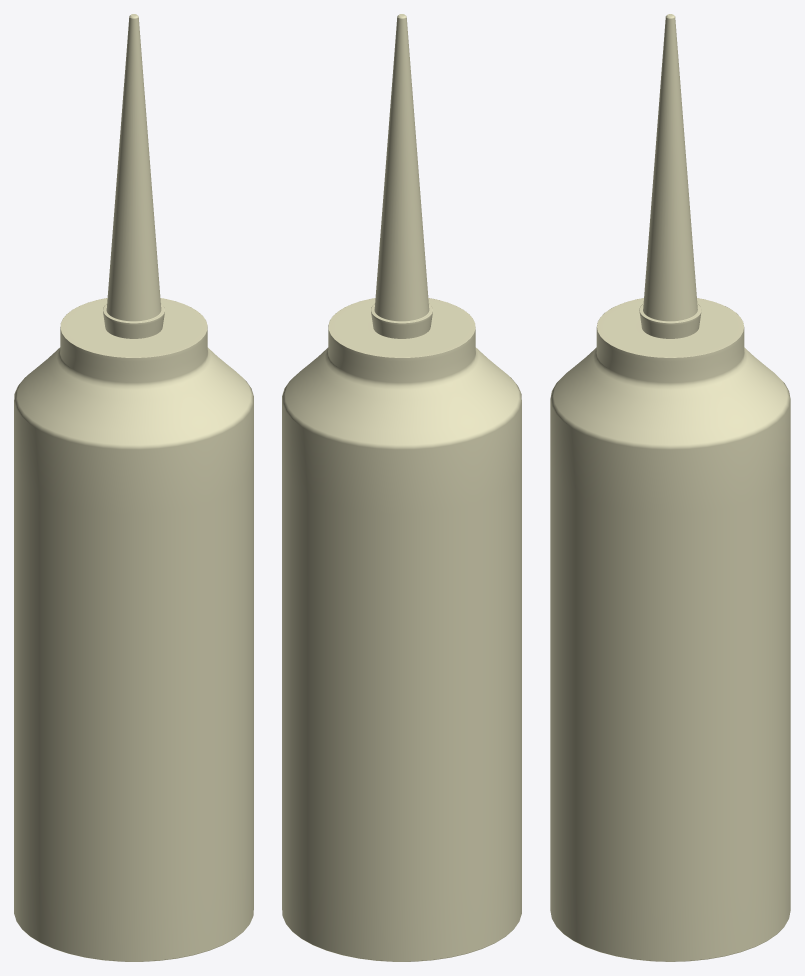
Rendered from Souse.fbx.
3 views of the same model, side by side, from view 1: azimuth 30°, elevation 25°; view 2: azimuth 150°, elevation 25°; view 3: azimuth 270°, elevation 25° (orthographic).
Parts seen in each view (by area): view 1: pCylinder31; view 2: pCylinder31; view 3: pCylinder31.
Part boxes in pixels (x1,y1,x2,y2): pCylinder31: (14, 14, 253, 961); pCylinder31: (282, 14, 521, 961); pCylinder31: (550, 14, 790, 961).
Bounding box in the file's own units: 1.98 × 8.13 × 1.98.
